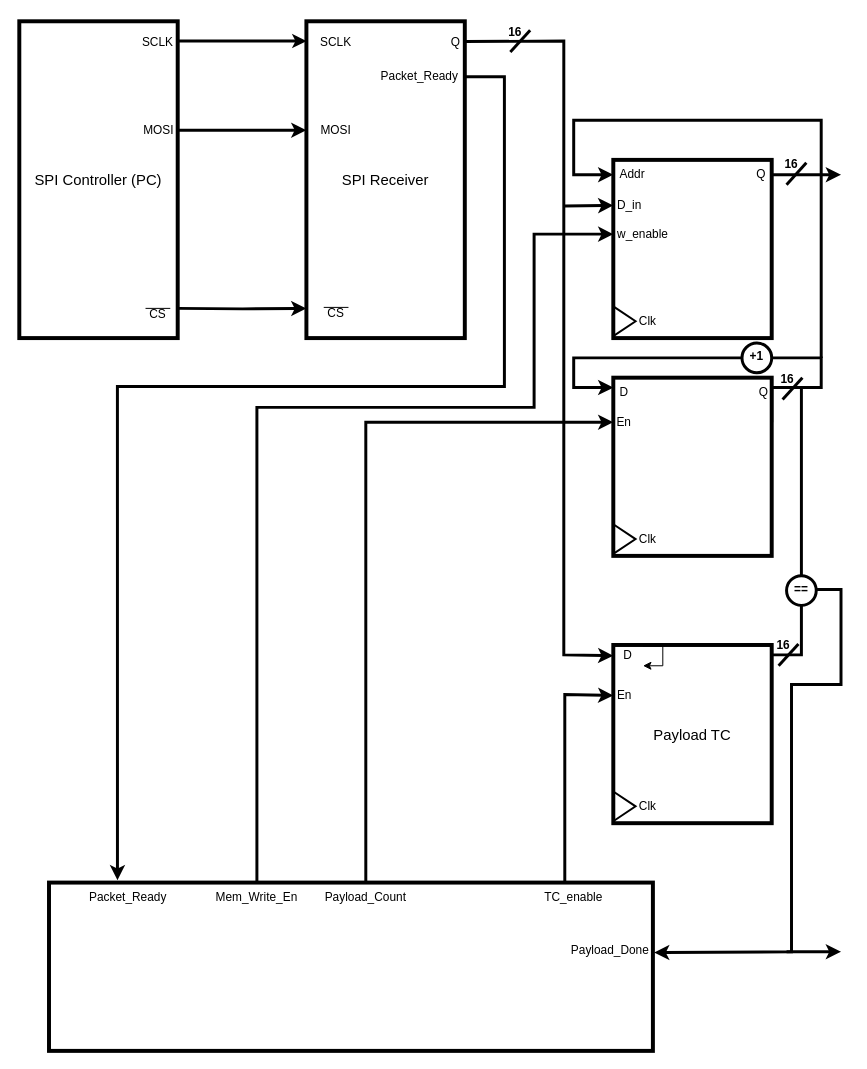
Image size: 867x1069. Some labels were removed from this diagram. Here are the shapes that lost their labels. From the top down, the box of each, then its label:
(611, 157, 773, 340): Memory
(611, 375, 773, 557): Payload Counter
(47, 880, 654, 1052): Controller
